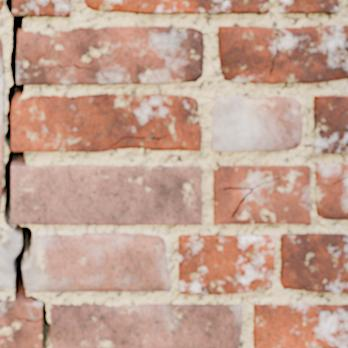brick: (12, 166, 201, 224), (12, 94, 201, 151), (17, 27, 203, 83), (51, 304, 241, 347), (218, 25, 347, 82), (179, 235, 274, 294), (214, 166, 310, 223), (211, 96, 302, 150), (254, 305, 347, 347), (280, 234, 347, 292), (85, 0, 268, 12), (0, 301, 41, 347), (314, 96, 347, 152), (315, 164, 347, 219), (13, 0, 69, 15), (279, 0, 337, 12), (0, 74, 2, 200), (0, 39, 2, 73), (0, 0, 2, 10)
broken_brick: (24, 232, 170, 292), (0, 230, 20, 289)
crack: (1, 0, 52, 347), (332, 176, 347, 184), (0, 69, 3, 78)
